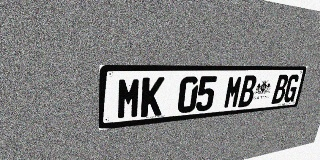0: (177, 76, 199, 114)
5: (195, 76, 217, 112)
B: (238, 75, 258, 107), (271, 75, 289, 104)
G: (283, 74, 300, 103)
K: (140, 77, 165, 117)
M: (116, 77, 142, 120), (223, 75, 244, 109)
